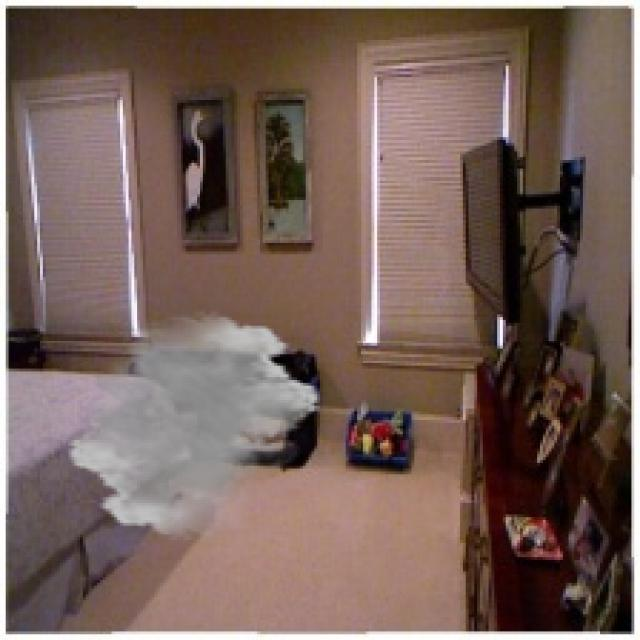Smoke: (66, 311, 323, 540)
